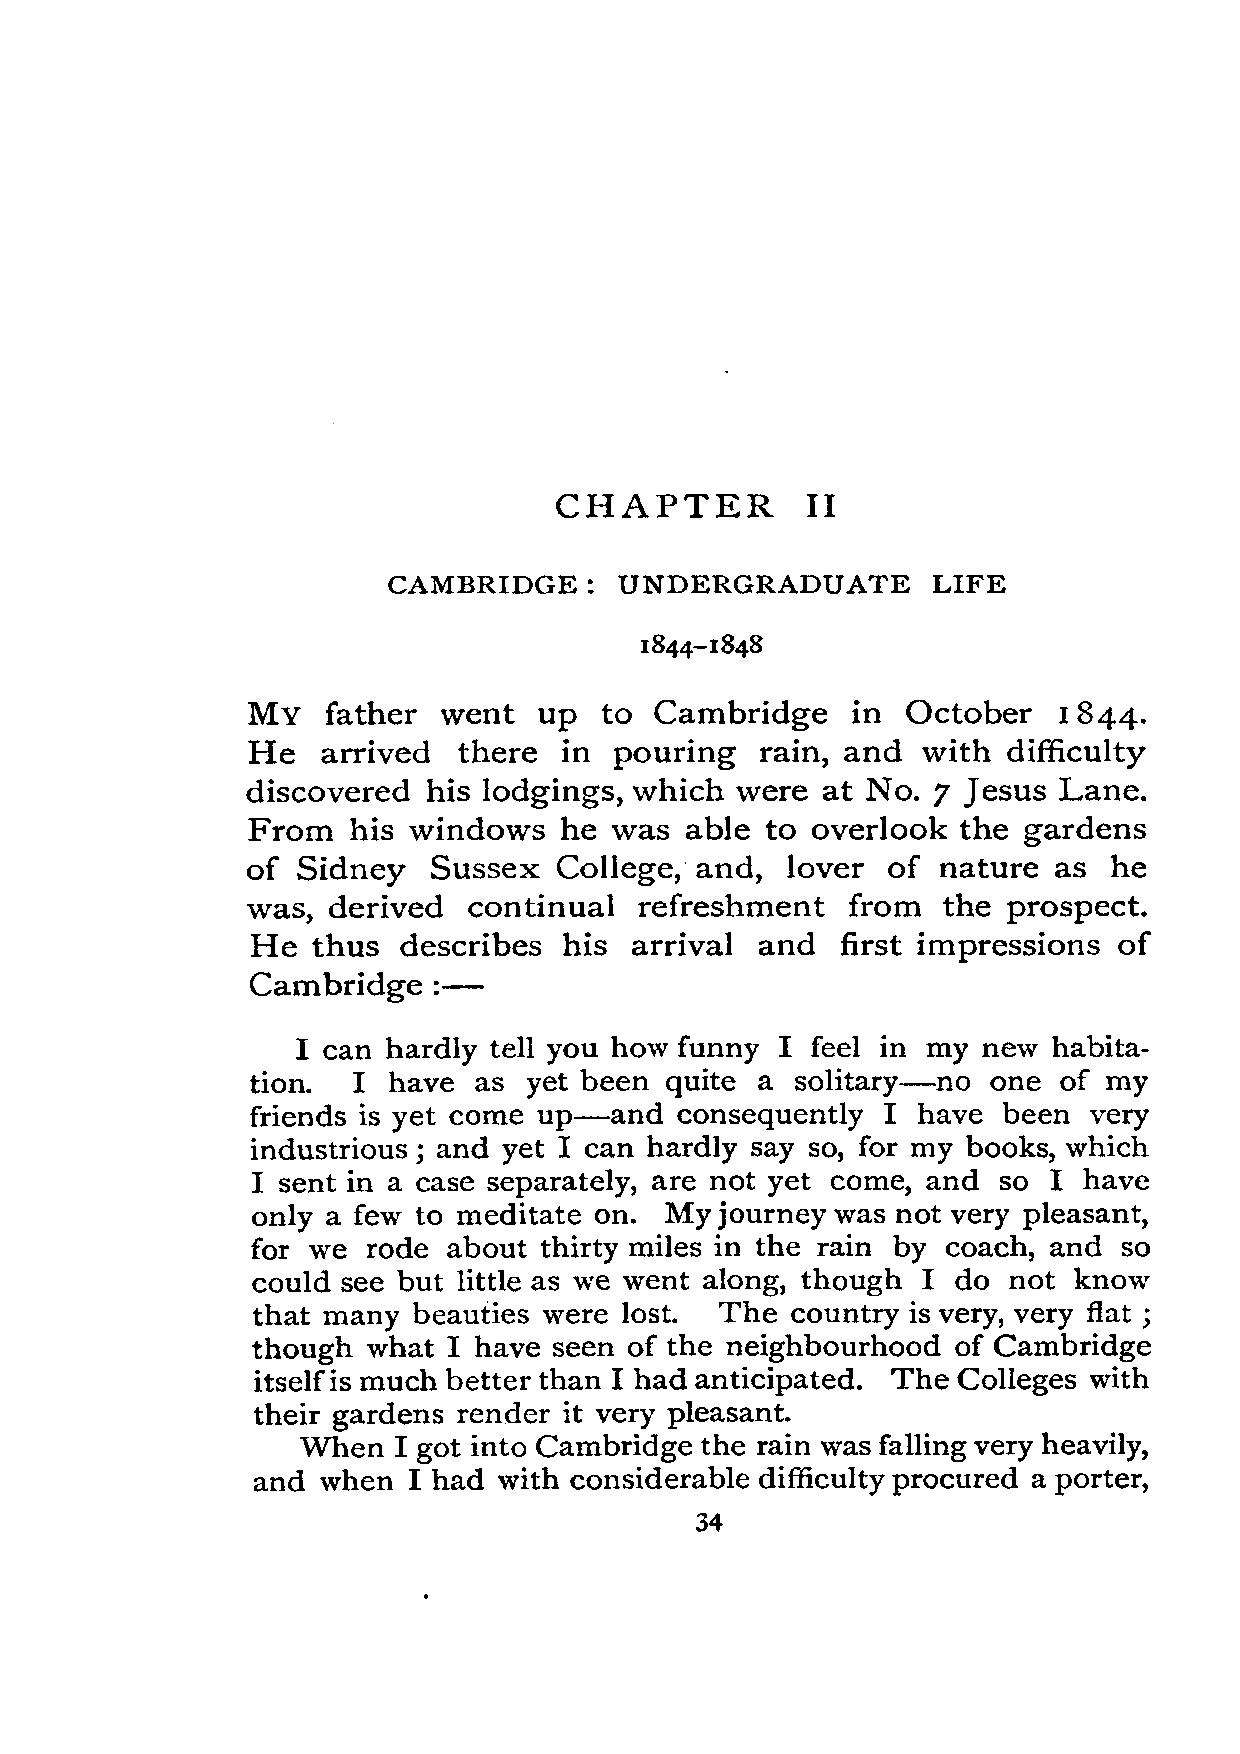chapter: (382, 488, 1006, 659)
content: (243, 697, 1151, 1496)
content_pagenumber: (692, 1508, 725, 1537)
